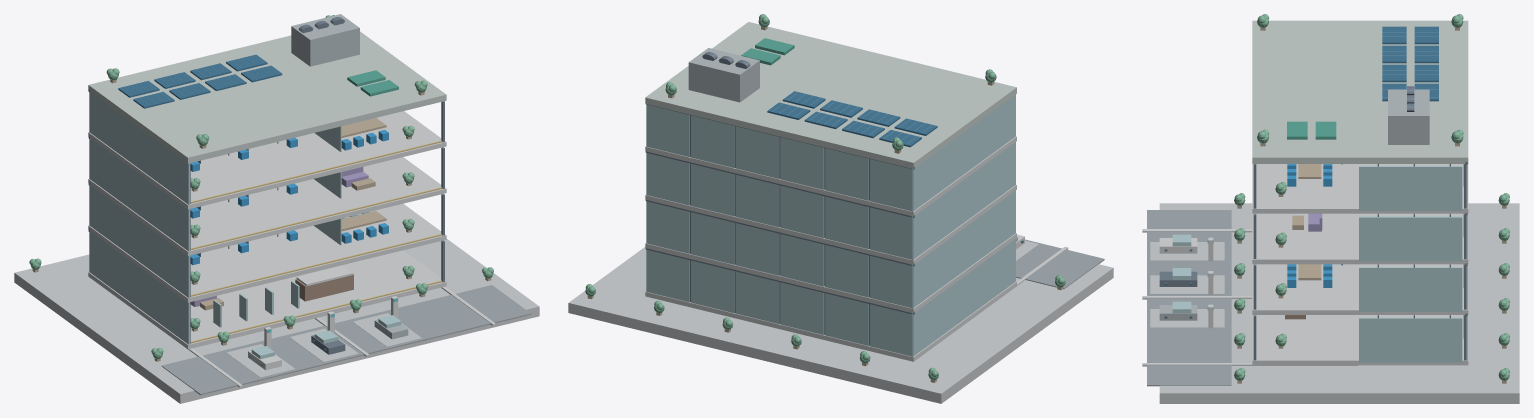
Rendered from smart_office.glb.
3 views of the same model, side by side, from view 1: azimuth 30°, elevation 25°; view 2: azimuth 150°, elevation 25°; view 3: azimuth 270°, elevation 25° (orthographic). The views are drawn at different scales.
Visible parts, largest first — view 1: GreenRoof_0568, SitePlinth_0001, FloorSlab_3_0305, FloorSlab_2_0170, FloorSlab_4_0433, EVParking_0002, FloorSlab_1_0081, WestFacade_0181, WestFacade_0316, WestFacade_0092, WestFacade_0444, PlantRoom_0625 (+11 smaller); view 2: GreenRoof_0568, SitePlinth_0001, WestFacade_0181, WestFacade_0092, WestFacade_0316, WestFacade_0444, PlantRoom_0625, EVParking_0002, FloorSlab_2_0170, FloorSlab_1_0081, FloorSlab_4_0433, FloorSlab_3_0305 (+27 smaller); view 3: GreenRoof_0568, SitePlinth_0001, EVParking_0002, FloorSlab_1_0081, FloorSlab_3_0305, FloorSlab_2_0170, FloorSlab_4_0433, SideGlass_0106, SideGlass_0330, SideGlass_0195, SideGlass_0458, PlantRoom_0625 (+17 smaller).
Boxes of the visible parts, x1,y1,x2,y2 form: GreenRoof_0568: (88, 31, 446, 163); SitePlinth_0001: (14, 239, 539, 403); FloorSlab_3_0305: (88, 157, 446, 255); FloorSlab_2_0170: (88, 203, 446, 302); FloorSlab_4_0433: (88, 111, 446, 209); EVParking_0002: (161, 285, 530, 395); FloorSlab_1_0081: (88, 250, 446, 349); WestFacade_0181: (90, 185, 189, 299); WestFacade_0316: (90, 139, 189, 252); WestFacade_0092: (90, 232, 189, 344); WestFacade_0444: (90, 92, 189, 204); PlantRoom_0625: (291, 14, 359, 66); GreenRoof_0568: (645, 22, 1016, 168); SitePlinth_0001: (568, 247, 1113, 403); WestFacade_0181: (911, 190, 1015, 308); WestFacade_0092: (911, 239, 1015, 356); WestFacade_0316: (911, 142, 1015, 260); WestFacade_0444: (911, 94, 1015, 211); PlantRoom_0625: (688, 48, 759, 102); EVParking_0002: (1016, 239, 1104, 289); FloorSlab_2_0170: (645, 233, 1016, 313); FloorSlab_1_0081: (645, 281, 1016, 361); FloorSlab_4_0433: (645, 136, 1016, 216); FloorSlab_3_0305: (645, 185, 1016, 264); GreenRoof_0568: (1252, 20, 1468, 163); SitePlinth_0001: (1159, 203, 1519, 403); EVParking_0002: (1147, 210, 1231, 386); FloorSlab_1_0081: (1252, 315, 1468, 365); FloorSlab_3_0305: (1252, 213, 1468, 264); FloorSlab_2_0170: (1252, 264, 1468, 314); FloorSlab_4_0433: (1252, 164, 1468, 213); SideGlass_0106: (1359, 317, 1462, 362); SideGlass_0330: (1359, 216, 1462, 261); SideGlass_0195: (1359, 267, 1462, 311); SideGlass_0458: (1359, 166, 1462, 210); PlantRoom_0625: (1388, 89, 1429, 144).
Size of the model in its own units: 25 by 15.57 by 20.95.
